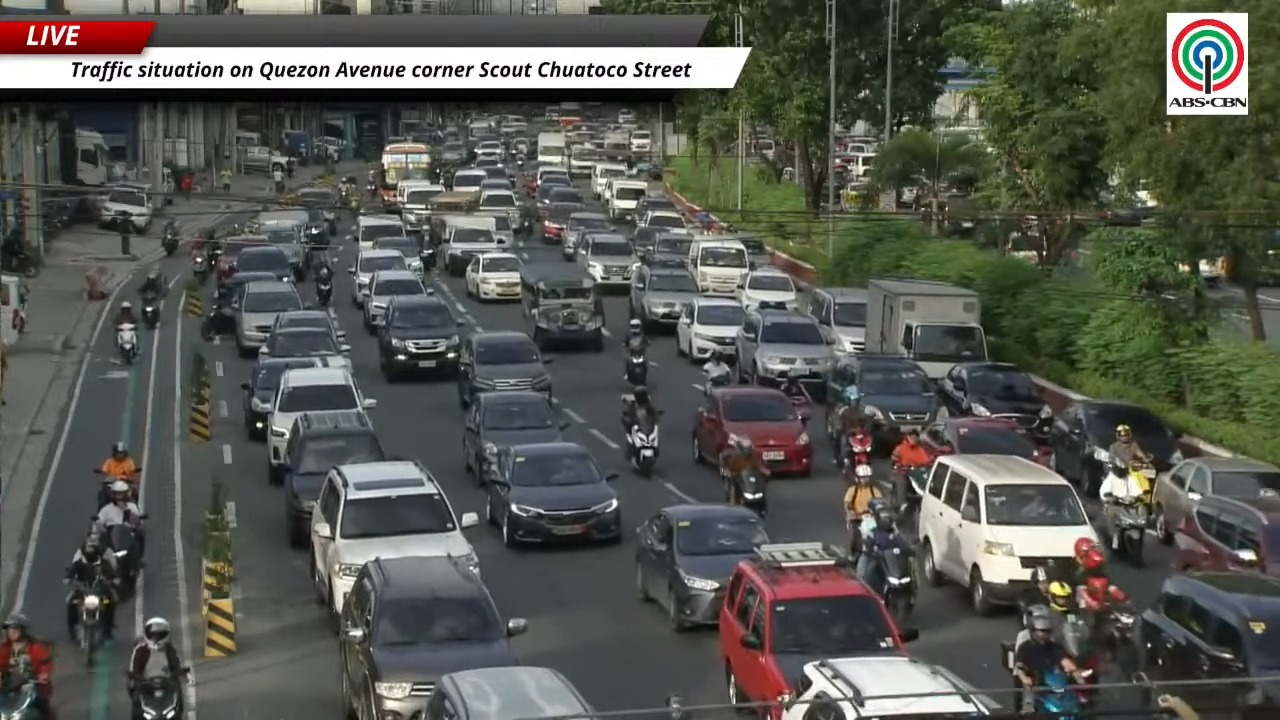bus: (380, 143, 431, 208)
car: (718, 542, 918, 705), (339, 557, 526, 719), (919, 454, 1097, 615), (310, 460, 479, 627), (1138, 572, 1279, 717), (635, 503, 768, 631), (779, 653, 997, 719), (282, 410, 386, 547), (484, 442, 620, 546), (1049, 400, 1183, 496), (267, 367, 375, 483), (692, 385, 812, 476), (1153, 456, 1279, 542), (828, 355, 937, 446), (464, 390, 568, 485), (421, 665, 595, 719), (937, 361, 1052, 440), (1173, 496, 1279, 575), (735, 307, 834, 385), (377, 295, 464, 382), (457, 331, 551, 407), (921, 417, 1050, 466), (241, 357, 317, 440), (235, 280, 303, 357), (629, 264, 698, 330), (676, 297, 744, 362), (363, 269, 428, 334), (802, 288, 867, 353), (212, 272, 278, 333), (251, 210, 308, 280), (444, 216, 509, 277), (688, 235, 751, 296), (259, 327, 350, 367), (349, 250, 407, 308), (576, 234, 637, 288), (98, 183, 152, 234), (464, 253, 521, 301), (216, 235, 270, 284), (735, 267, 798, 309), (272, 309, 345, 343), (346, 213, 405, 251), (401, 183, 445, 231), (236, 244, 294, 280), (641, 228, 693, 267), (561, 228, 617, 261), (540, 203, 583, 244), (373, 237, 422, 272), (723, 232, 772, 266), (563, 211, 611, 245), (590, 161, 626, 200), (534, 175, 572, 208), (479, 180, 519, 211), (569, 145, 604, 177), (630, 227, 666, 258), (636, 193, 677, 216), (637, 210, 686, 229), (451, 167, 487, 191), (536, 168, 571, 189), (547, 186, 584, 205), (475, 140, 504, 160), (473, 157, 501, 177), (629, 130, 651, 152), (617, 108, 635, 124)
motorcycle: (1029, 668, 1094, 719), (875, 547, 916, 627), (1105, 497, 1149, 567), (889, 465, 928, 534), (77, 583, 108, 666), (1033, 670, 1085, 719), (106, 523, 140, 595), (133, 677, 183, 719), (627, 413, 658, 478), (726, 468, 767, 517), (1109, 607, 1137, 677), (92, 468, 136, 508), (0, 678, 41, 719), (844, 431, 873, 481), (0, 242, 38, 277), (116, 323, 138, 364), (625, 350, 648, 387), (788, 393, 812, 424), (141, 292, 159, 329), (704, 368, 731, 387), (191, 253, 208, 283), (316, 278, 333, 307), (161, 229, 179, 256), (206, 241, 222, 268), (419, 247, 435, 274), (347, 195, 361, 218), (366, 182, 377, 197)
truck: (865, 279, 987, 379), (50, 123, 111, 185), (240, 146, 294, 175), (537, 132, 567, 167), (602, 131, 630, 159)
